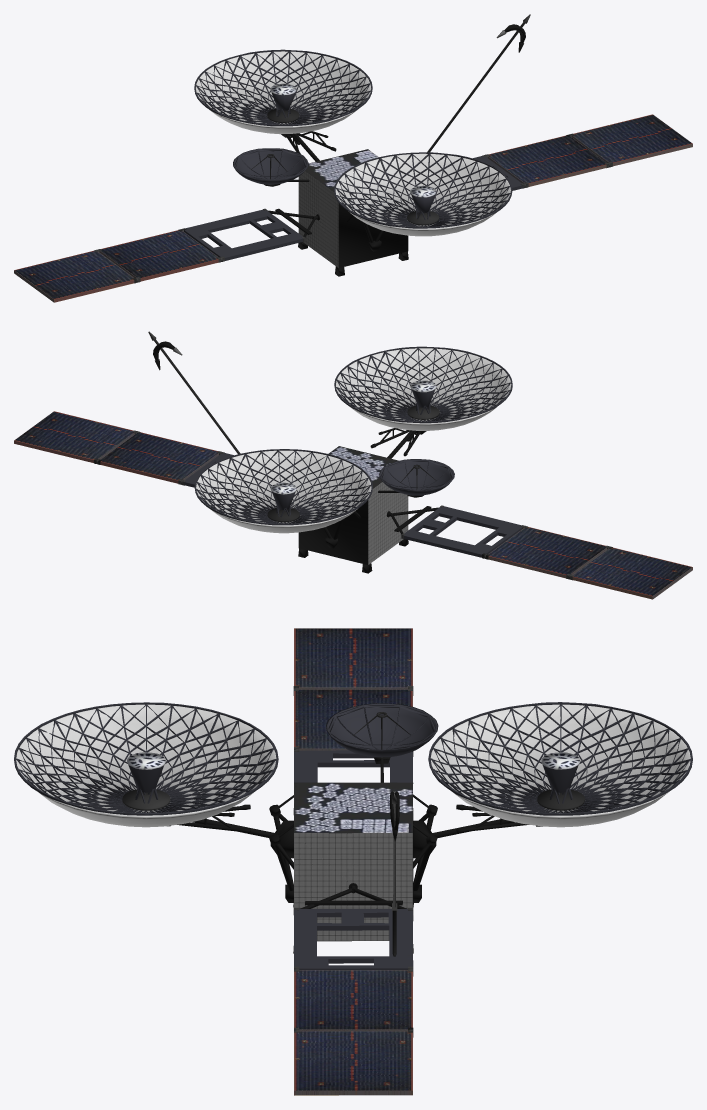
File: tracking-and-data-relay-tdrs-b.glb
The picture shows the model from 3 angles, top to bottom: view 1: azimuth 30°, elevation 25°; view 2: azimuth 150°, elevation 25°; view 3: azimuth 270°, elevation 25°; orthographic projection. The views are drawn at different scales.
Parts seen in each view (by area): view 1: tex_01, shiny_panel, tex_02, black_krinkle, foil_silver; view 2: tex_01, shiny_panel, tex_02, black_krinkle, foil_silver; view 3: tex_01, shiny_panel, tex_02, black_krinkle, foil_silver.
Part boxes in pixels (x1,y1,x2,y2): tex_01: [92, 49, 692, 293]; shiny_panel: [14, 114, 692, 302]; tex_02: [196, 51, 510, 236]; black_krinkle: [264, 24, 525, 276]; foil_silver: [94, 14, 612, 283]; tex_01: [104, 346, 522, 557]; shiny_panel: [14, 411, 692, 599]; tex_02: [196, 348, 511, 533]; black_krinkle: [153, 341, 438, 573]; foil_silver: [94, 331, 612, 580]; tex_01: [14, 702, 692, 1095]; shiny_panel: [294, 628, 412, 1095]; tex_02: [16, 704, 690, 827]; black_krinkle: [167, 757, 542, 953]; foil_silver: [122, 686, 584, 1037].
Size of the model in its own units: 21.12 by 5.76 by 13.11.
4 materials, 3 textured.
